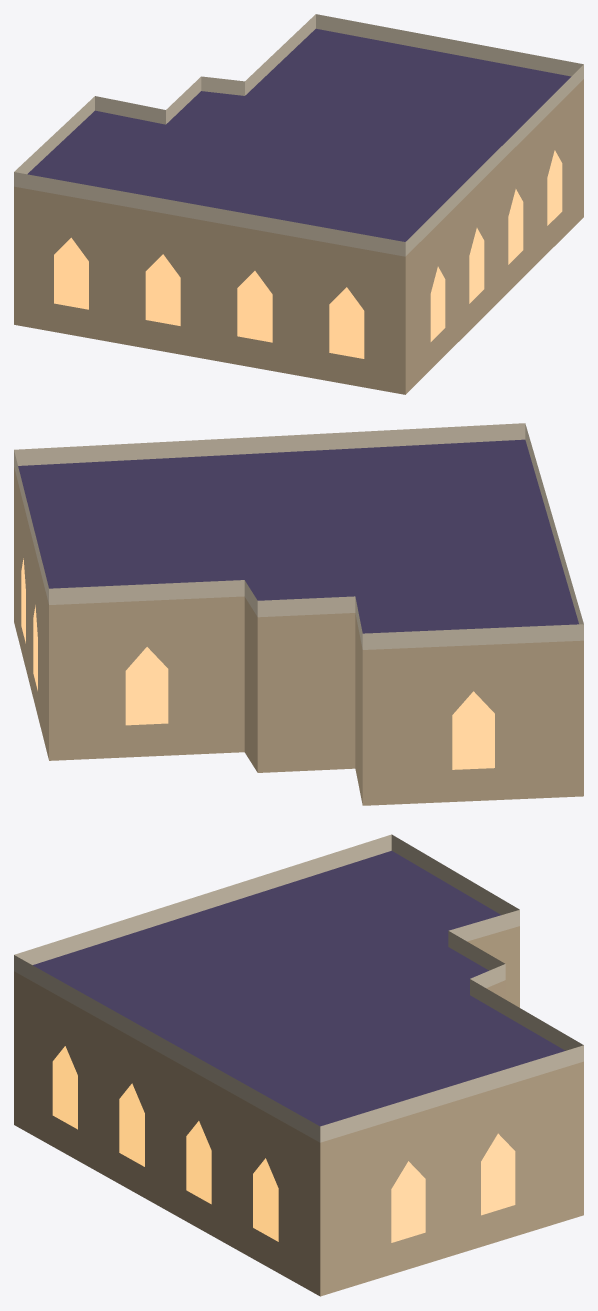
3 renders of one model, top to bottom at view 1: azimuth 30°, elevation 25°; view 2: azimuth 150°, elevation 25°; view 3: azimuth 270°, elevation 25°, orthographic. The views are drawn at different scales.
Visible parts, largest first — view 1: campus/b-054-0; view 2: campus/b-054-0; view 3: campus/b-054-0.
Part boxes in pixels (x1=…): campus/b-054-0: x1=14, y1=14, x2=583, y2=394; campus/b-054-0: x1=14, y1=423, x2=583, y2=805; campus/b-054-0: x1=14, y1=834, x2=583, y2=1296.
Size of the model in its own units: 21.18 by 5.75 by 17.47.
